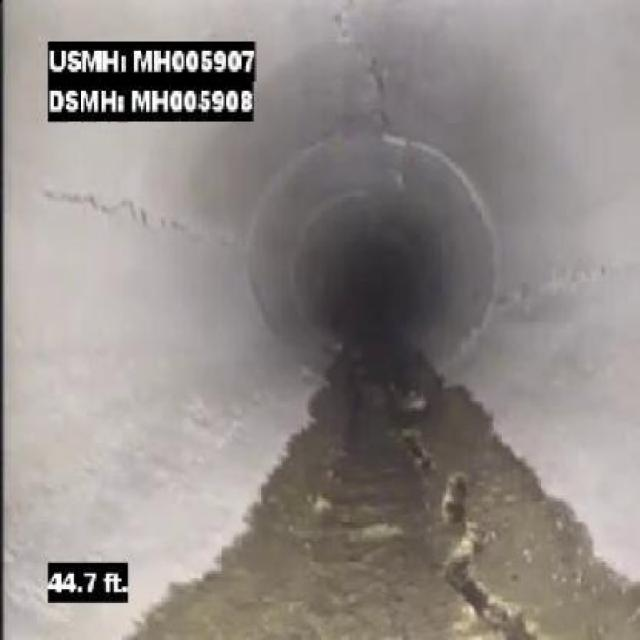Buckling: (432, 476, 546, 638), (398, 400, 440, 480)
Crack: (32, 182, 185, 240), (323, 5, 395, 116), (506, 256, 626, 302)
